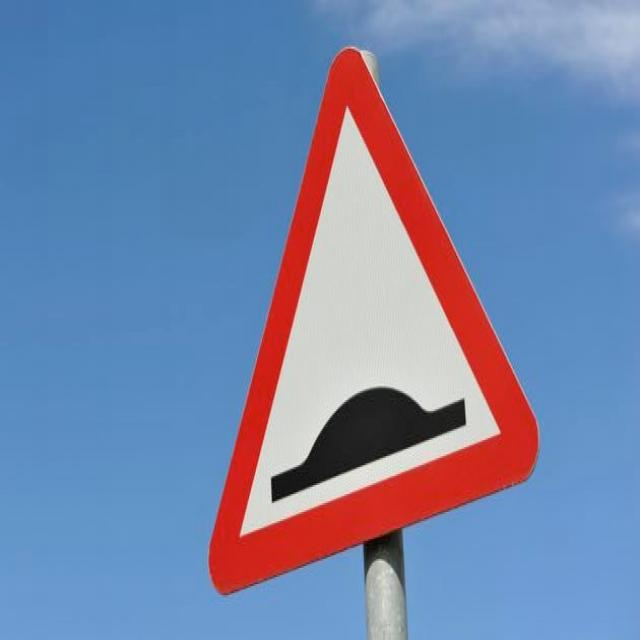hump: (206, 39, 558, 604)
